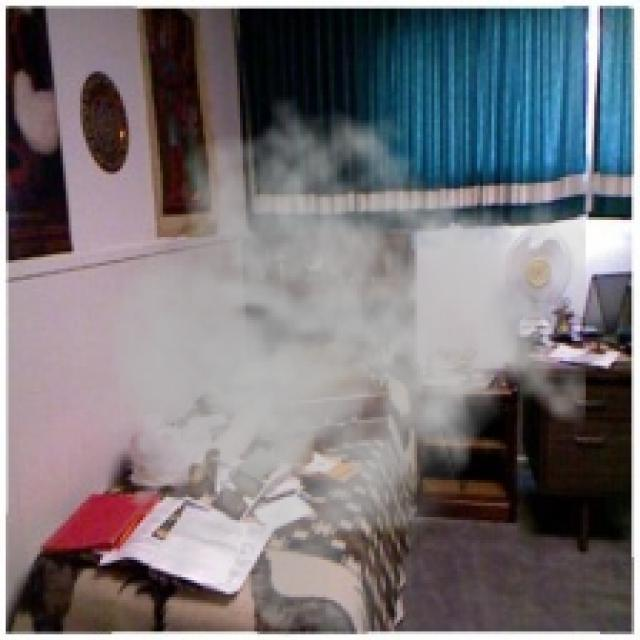Smoke: (60, 94, 586, 637)
